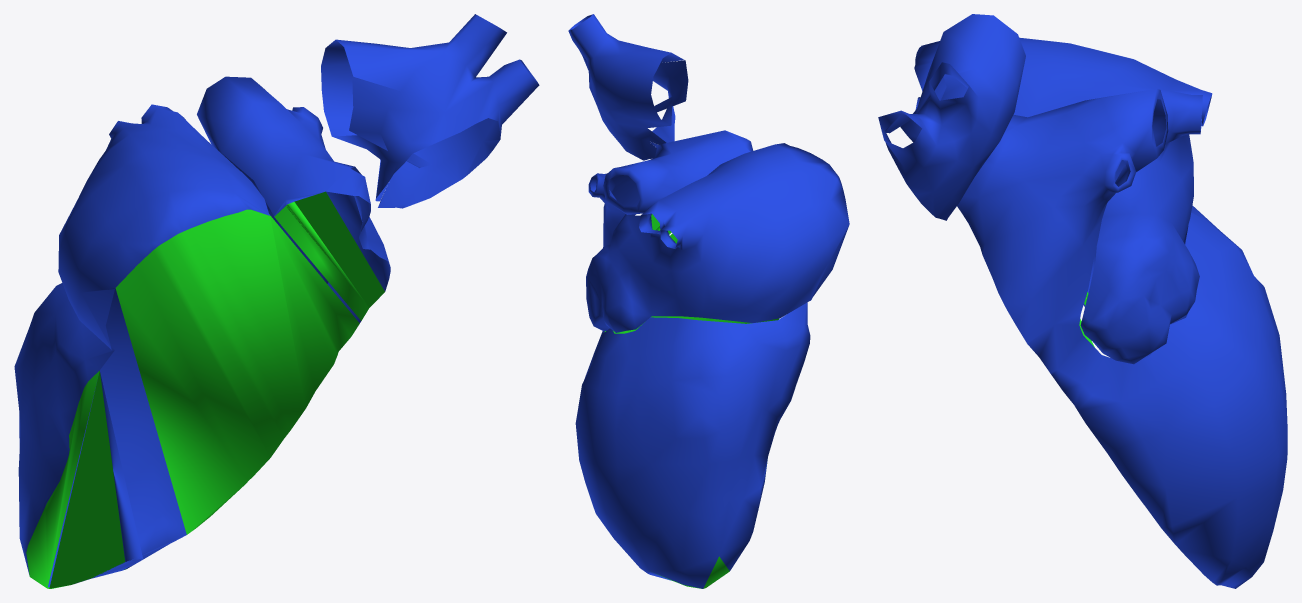
3 renders of one model, left to right at view 1: azimuth 30°, elevation 25°; view 2: azimuth 150°, elevation 25°; view 3: azimuth 270°, elevation 25°, orthographic. The views are drawn at different scales.
Visible parts, largest first — view 1: coeur; view 2: coeur; view 3: coeur.
Boxes of the visible parts, x1=… form: coeur: x1=14, y1=14, x2=539, y2=588; coeur: x1=568, y1=14, x2=849, y2=588; coeur: x1=878, y1=14, x2=1287, y2=588.
Size of the model in its own units: 194 by 283 by 164.
